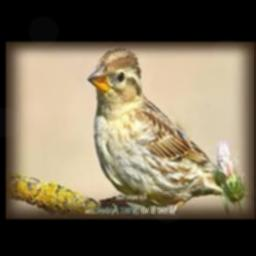Sparrow: (88, 49, 235, 210)
